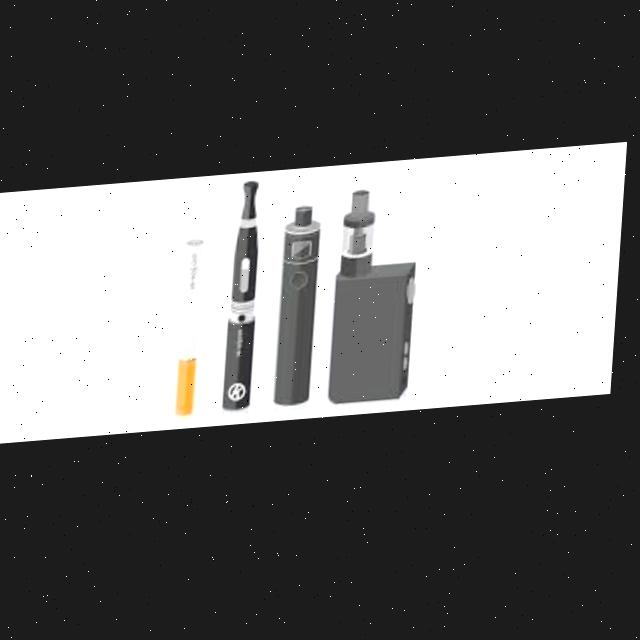cigarette: (180, 242, 210, 420)
vape: (333, 192, 424, 412), (278, 209, 325, 414), (228, 185, 267, 417)
